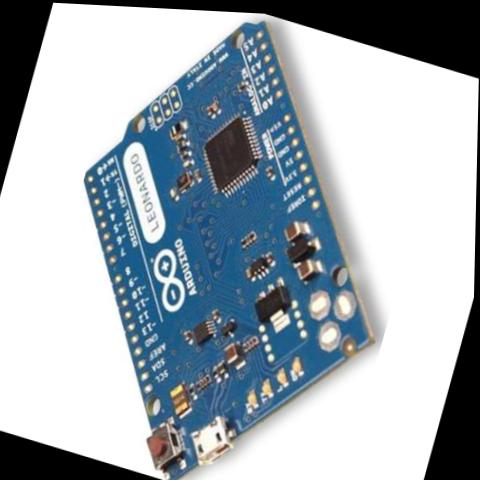Arduino-Leonardo: (15, 1, 452, 480)
